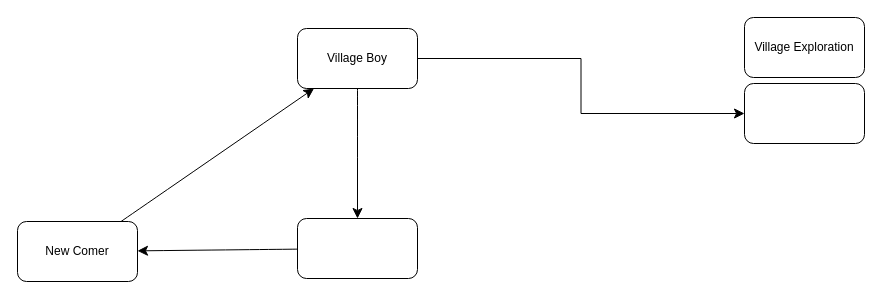
This 882x299 diagram has some shape labels left out. The centre of each missing label's shape, as x and y in pixels:
"Errands" belongs at (804,113).
"Traveler" belongs at (357,248).
